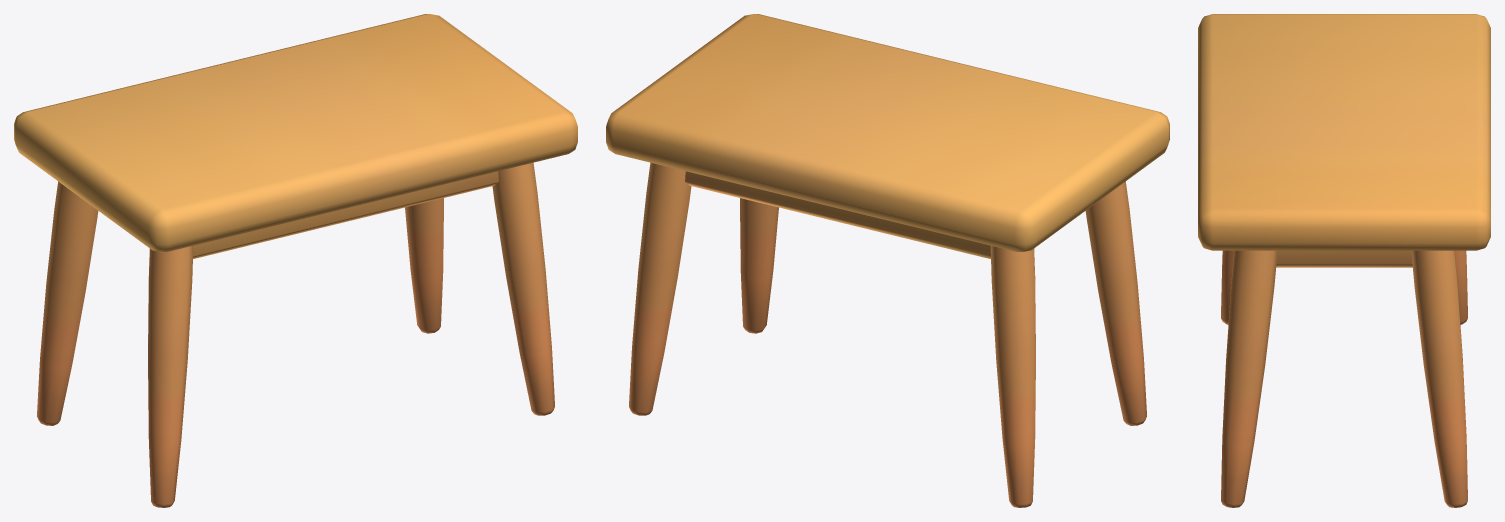
Rendered from Kitchen_Table_07.glb.
3 views of the same model, side by side, from view 1: azimuth 30°, elevation 25°; view 2: azimuth 150°, elevation 25°; view 3: azimuth 270°, elevation 25° (orthographic).
Visible parts, largest first — view 1: Kitchen_Table_07; view 2: Kitchen_Table_07; view 3: Kitchen_Table_07.
Boxes of the visible parts, left/top/right/bottom form: Kitchen_Table_07: left=14, top=14, right=577, bottom=507; Kitchen_Table_07: left=606, top=14, right=1169, bottom=507; Kitchen_Table_07: left=1198, top=14, right=1490, bottom=507.
Size of the model in its own units: 1.05 by 0.7204 by 0.63.
1 material, 1 textured.
